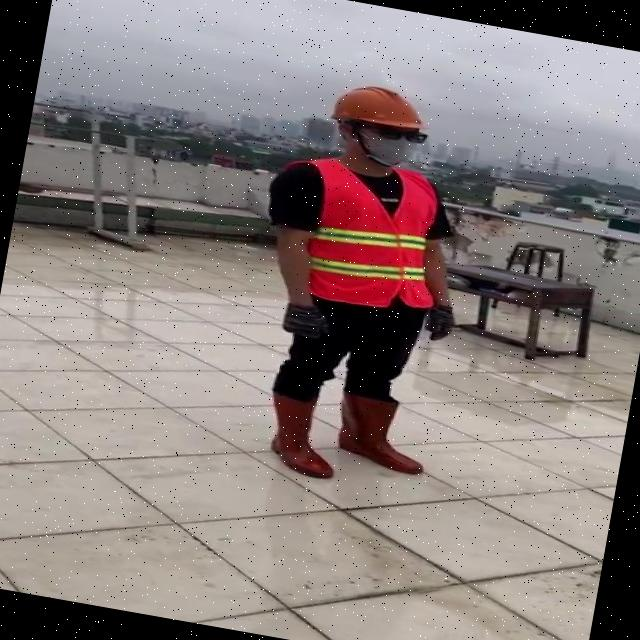boots: (247, 378, 351, 484), (333, 390, 444, 478)
helmet: (324, 76, 429, 136)
vest: (269, 149, 455, 318)
